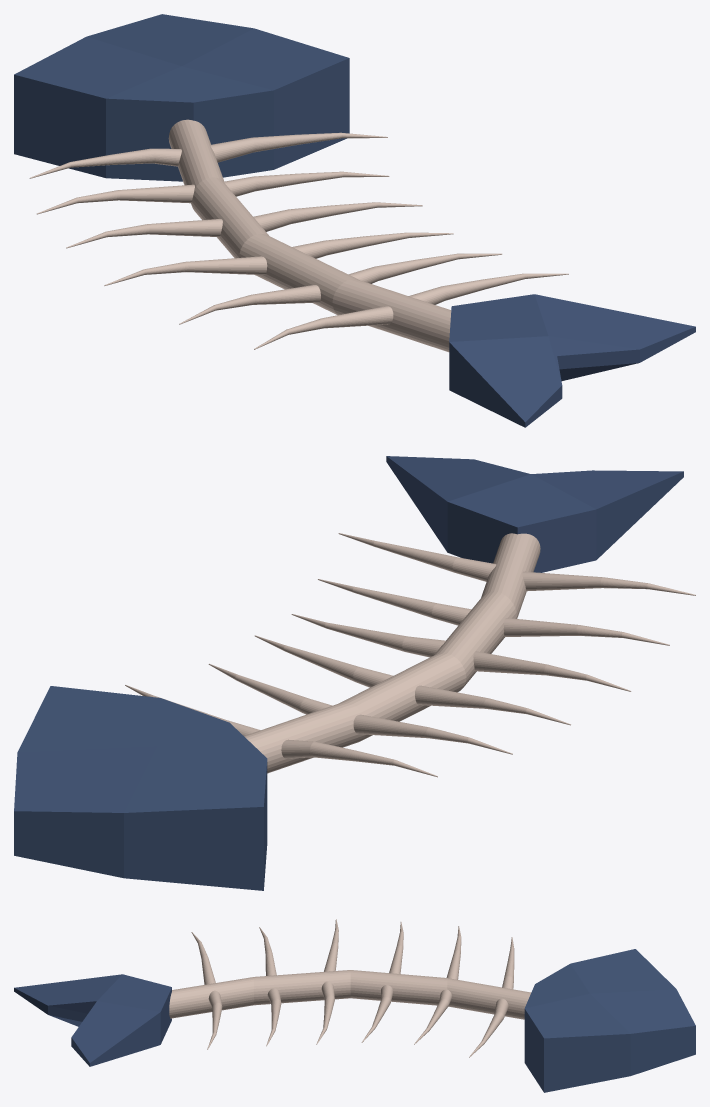
The model's file is FishBone.fbx.
3 views of the same model, one above another, from view 1: azimuth 30°, elevation 25°; view 2: azimuth 150°, elevation 25°; view 3: azimuth 270°, elevation 25° (orthographic). The views are drawn at different scales.
Visible parts, largest first — view 1: Fish; view 2: Fish; view 3: Fish.
Boxes of the visible parts, bbox=[...] form: Fish: bbox=[14, 14, 695, 427]; Fish: bbox=[14, 456, 695, 890]; Fish: bbox=[14, 919, 695, 1092].
Size of the model in its own units: 474 by 87.54 by 994.
